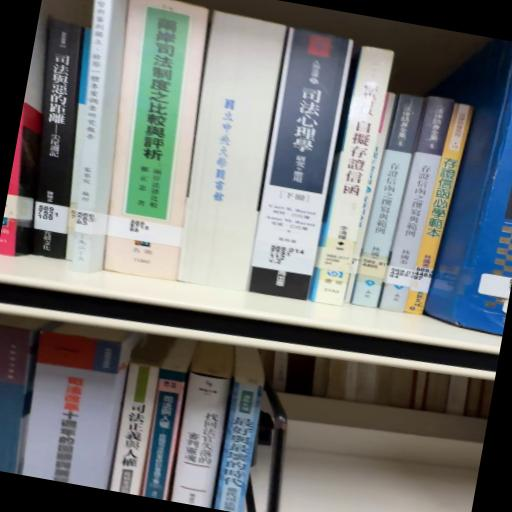backward: (178, 12, 286, 291)
book: (92, 1, 218, 225), (422, 37, 512, 341), (310, 45, 400, 311), (9, 24, 102, 270), (165, 340, 242, 509), (207, 346, 275, 512), (108, 362, 164, 497)
